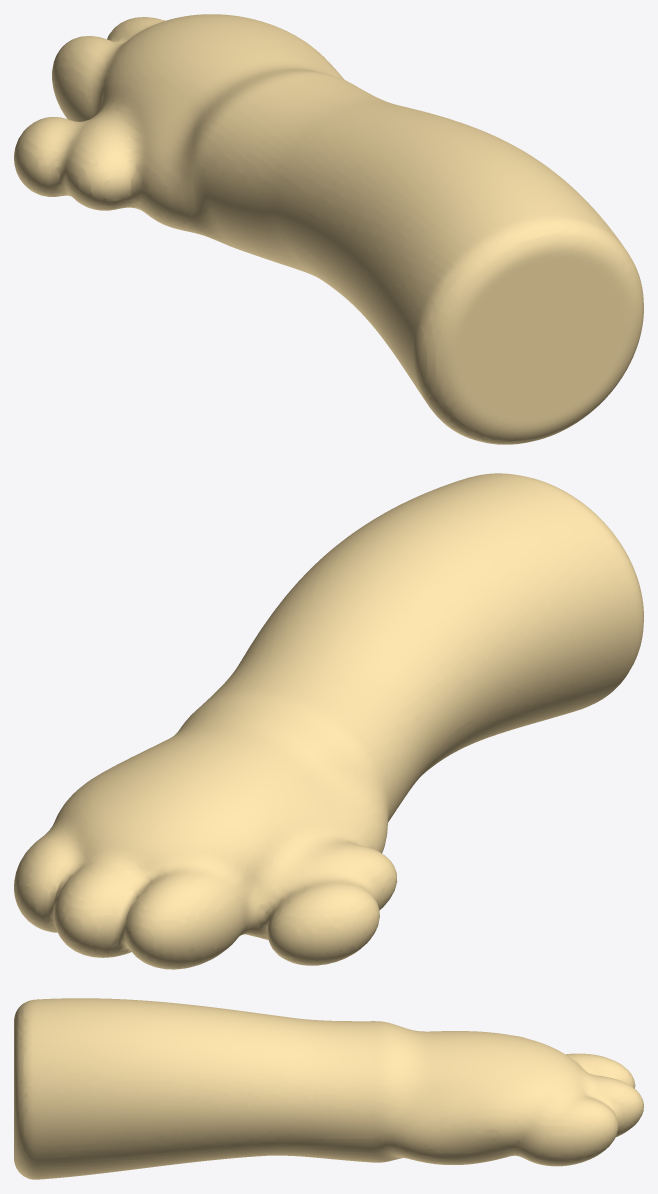
File: adult-paw-grip.glb
3 views of the same model, one above another, from view 1: azimuth 30°, elevation 25°; view 2: azimuth 150°, elevation 25°; view 3: azimuth 270°, elevation 25° (orthographic). The views are drawn at different scales.
Parts seen in each view (by area): view 1: XFC_Right_Forearm_Paw; view 2: XFC_Right_Forearm_Paw; view 3: XFC_Right_Forearm_Paw.
Part boxes in pixels (left/top/right/bottom): XFC_Right_Forearm_Paw: left=14, top=14, right=643, bottom=444; XFC_Right_Forearm_Paw: left=14, top=473, right=643, bottom=969; XFC_Right_Forearm_Paw: left=14, top=998, right=643, bottom=1179.
Size of the model in its own units: 0.658 by 0.4711 by 1.61.
